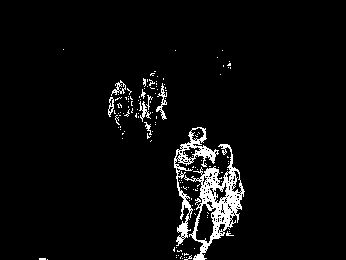person: (173, 127, 214, 252), (202, 145, 244, 253), (137, 69, 169, 142), (107, 80, 134, 132)
